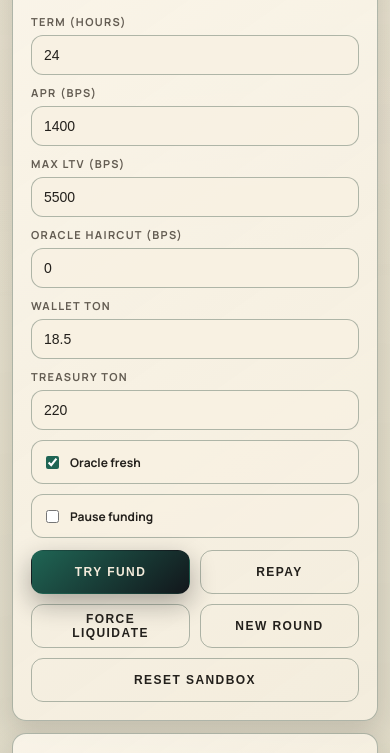
Scenario: demo sandbox: blocks funding on low treasury liquidity
(page scrolled)
Replace the text in the number field labelled "Treasury TON" with "1". click: (195, 410)
box: [31,390,359,430]
(page scrolled)
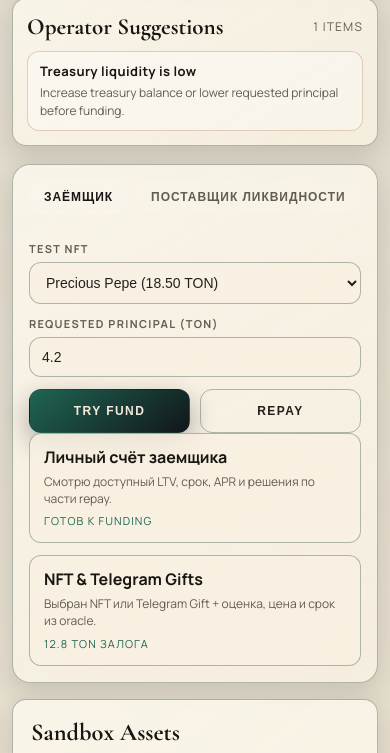
Click the button "TRY FUND". click: (110, 411)
box: [29,389,190,433]
(page scrolled)
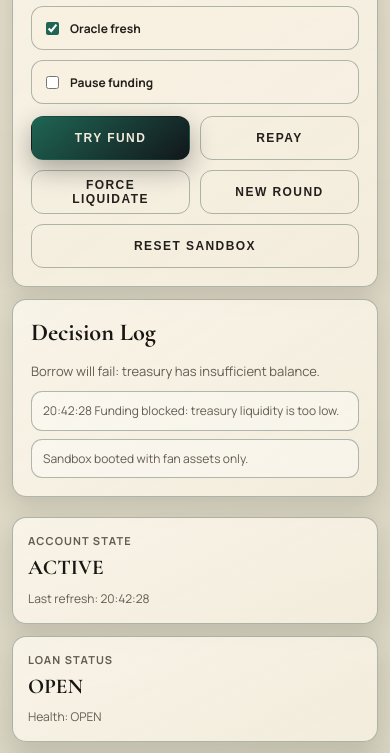
Expected: the list item "20:42:28 Funding blocked: treasury liquidity is too low." is shown, [31,391,359,431]
